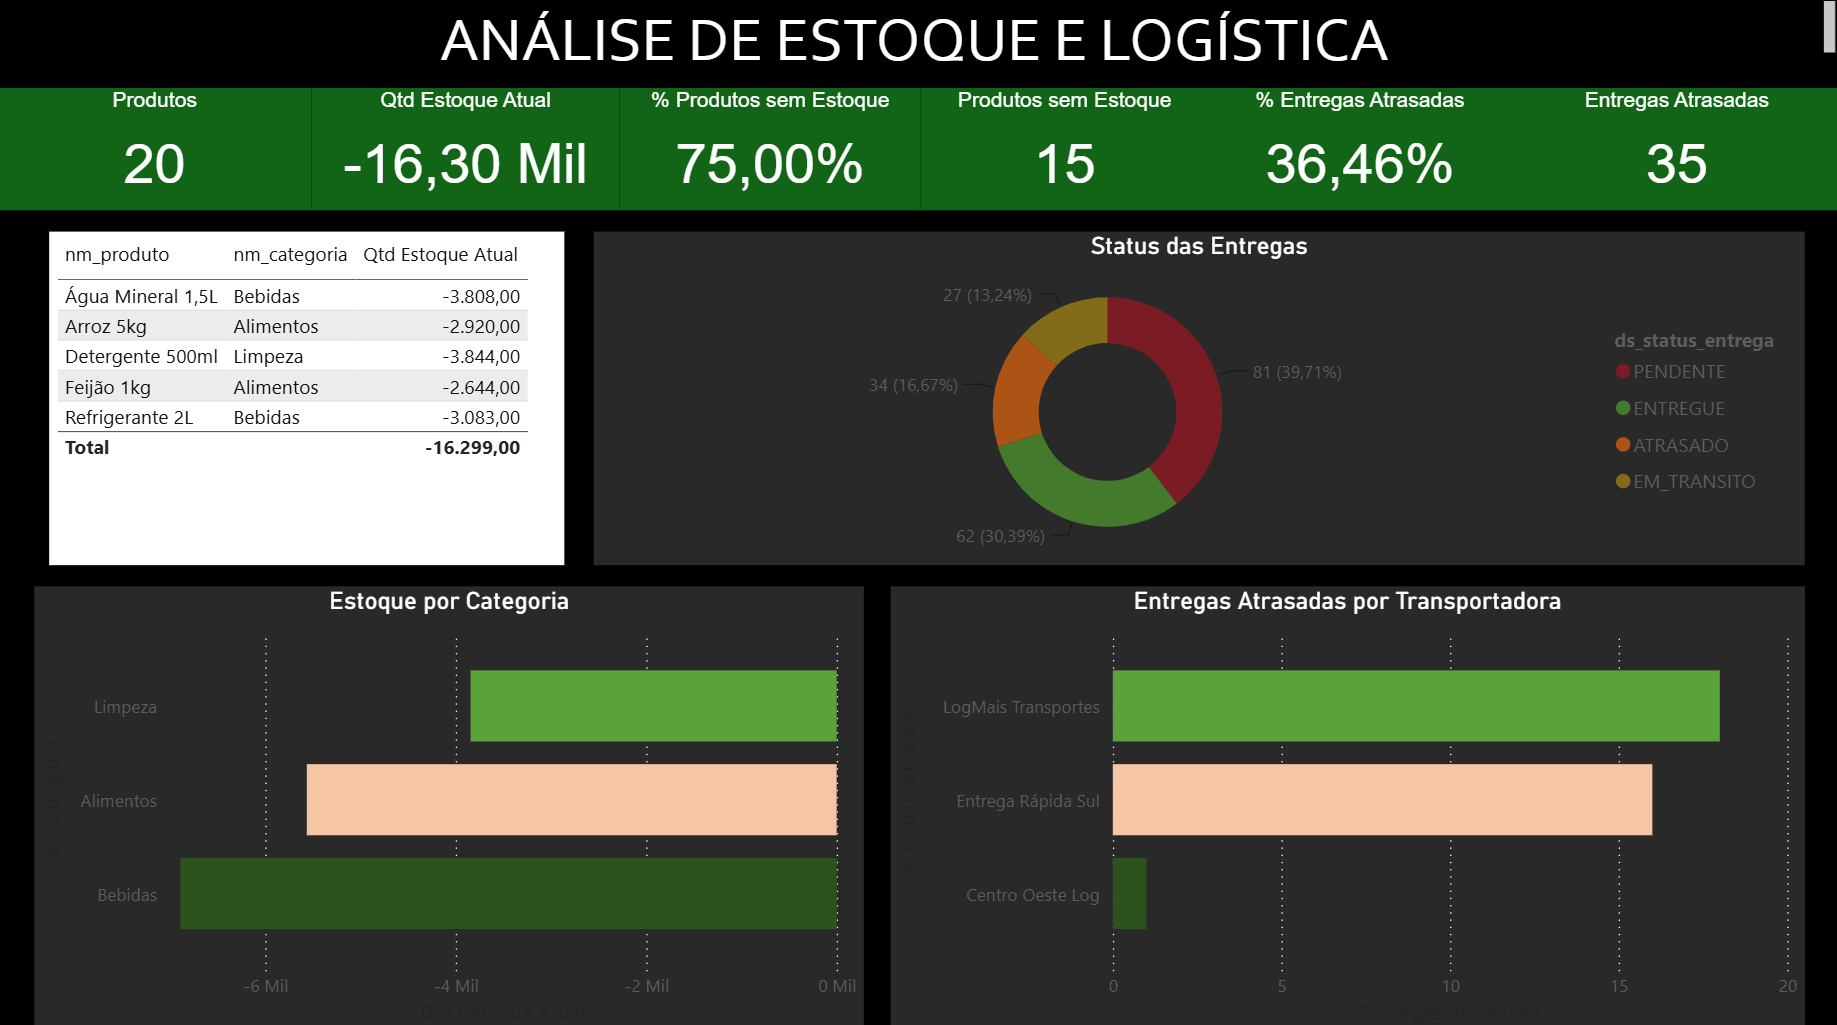

The page's visual inventory and layout, read from the dashboard file:
{"tool":"powerbi","page":{"name":"Estoque e Logística","canvas":[1280,720],"ordinal":0},"visuals":[{"type":"barChart","title":"Estoque por Categoria","fields":{"Category":["categoria_produto.nm_categoria"],"Y":["categoria_produto.Qtd Estoque Atual"]},"box":[25.2,411.1,576,309.2],"z":0},{"type":"barChart","title":"Entregas Atrasadas por Transportadora","fields":{"Category":["transportadora.nm_transportadora"],"Y":["categoria_produto.Entregas Atrasadas"]},"box":[619.6,411.1,634.5,309.2],"z":1000},{"type":"donutChart","title":"Status das Entregas","fields":{"Category":["entrega.ds_status_entrega"],"Y":["categoria_produto.Entregas Totais"]},"box":[413.4,164.9,840.6,231.3],"z":2000},{"type":"tableEx","title":"Estoque por Produto","fields":{"Values":["produto.nm_produto","categoria_produto.nm_categoria","categoria_produto.Qtd Estoque Atual"]},"box":[35.5,164.9,357.3,231.3],"z":3000},{"type":"textbox","box":[0,0,1280,53],"z":4000},{"type":"card","title":"Entregas Atrasadas","fields":{"Values":["categoria_produto.Entregas Atrasadas"]},"box":[1050.2,65.3,230.2,84.7],"z":5000},{"type":"card","title":"% Entregas Atrasadas","fields":{"Values":["categoria_produto.% Entregas Atrasadas"]},"box":[840.6,65.3,209.6,84.7],"z":6000},{"type":"card","title":"Produtos sem Estoque","fields":{"Values":["categoria_produto.Produtos sem Estoque"]},"box":[640.2,65.3,200.4,84.7],"z":7000},{"type":"card","title":"% Produtos sem Estoque","fields":{"Values":["categoria_produto.% Produtos sem Estoque"]},"box":[431.7,65.3,208.4,84.7],"z":8000},{"type":"card","title":"Qtd Estoque Atual","fields":{"Values":["categoria_produto.Qtd Estoque Atual"]},"box":[217.6,65.3,214.2,84.7],"z":9000},{"type":"card","title":"Produtos","fields":{"Values":["categoria_produto.Total Produtos"]},"box":[0,65.3,217.6,84.7],"z":10000}]}

Visuals, with their boxes in screenshot pixels (x1, y1, x2, y2), scaled from the page's 1280x720 canvas onto the 1837x1025 screenshot:
"Estoque por Categoria" barChart: select_region(36, 585, 863, 1024)
"Entregas Atrasadas por Transportadora" barChart: select_region(889, 585, 1800, 1024)
"Status das Entregas" donutChart: select_region(593, 235, 1800, 564)
"Estoque por Produto" tableEx: select_region(51, 235, 564, 564)
textbox: select_region(0, 0, 1836, 75)
"Entregas Atrasadas" card: select_region(1507, 93, 1836, 214)
"% Entregas Atrasadas" card: select_region(1206, 93, 1507, 214)
"Produtos sem Estoque" card: select_region(919, 93, 1206, 214)
"% Produtos sem Estoque" card: select_region(620, 93, 919, 214)
"Qtd Estoque Atual" card: select_region(312, 93, 620, 214)
"Produtos" card: select_region(0, 93, 312, 214)
